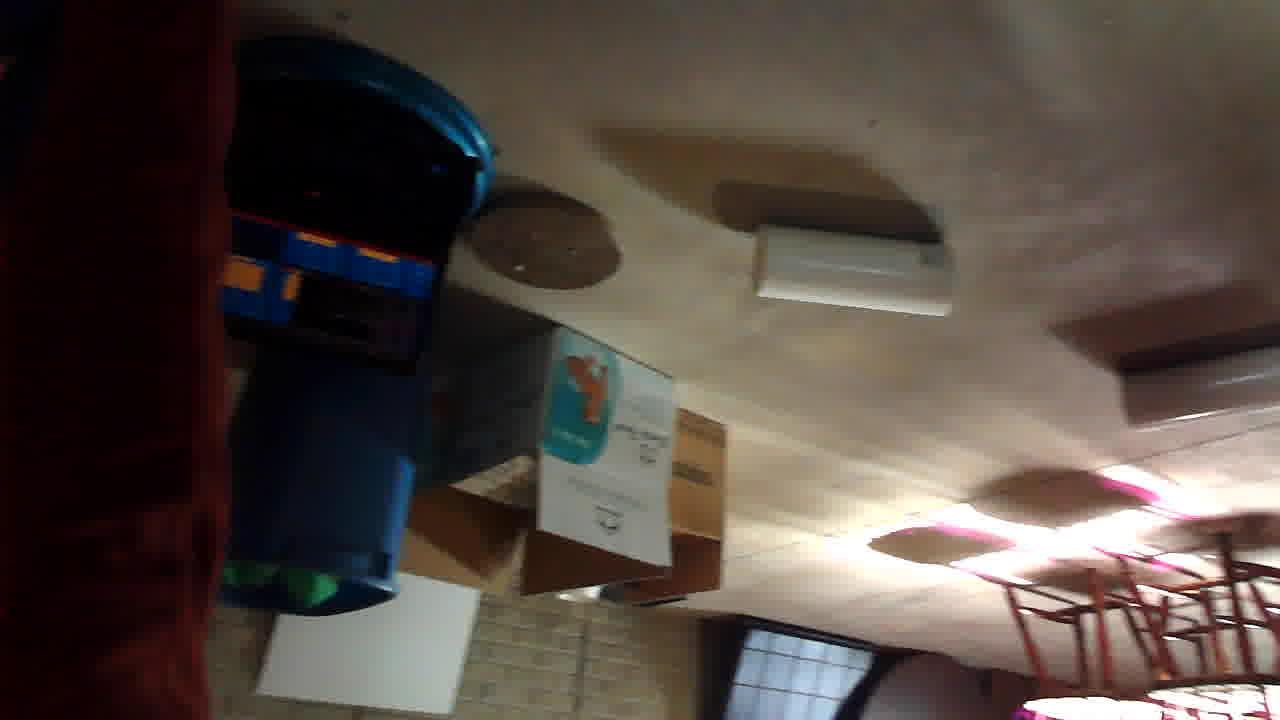coral: (322, 396, 532, 501), (0, 293, 157, 372)
